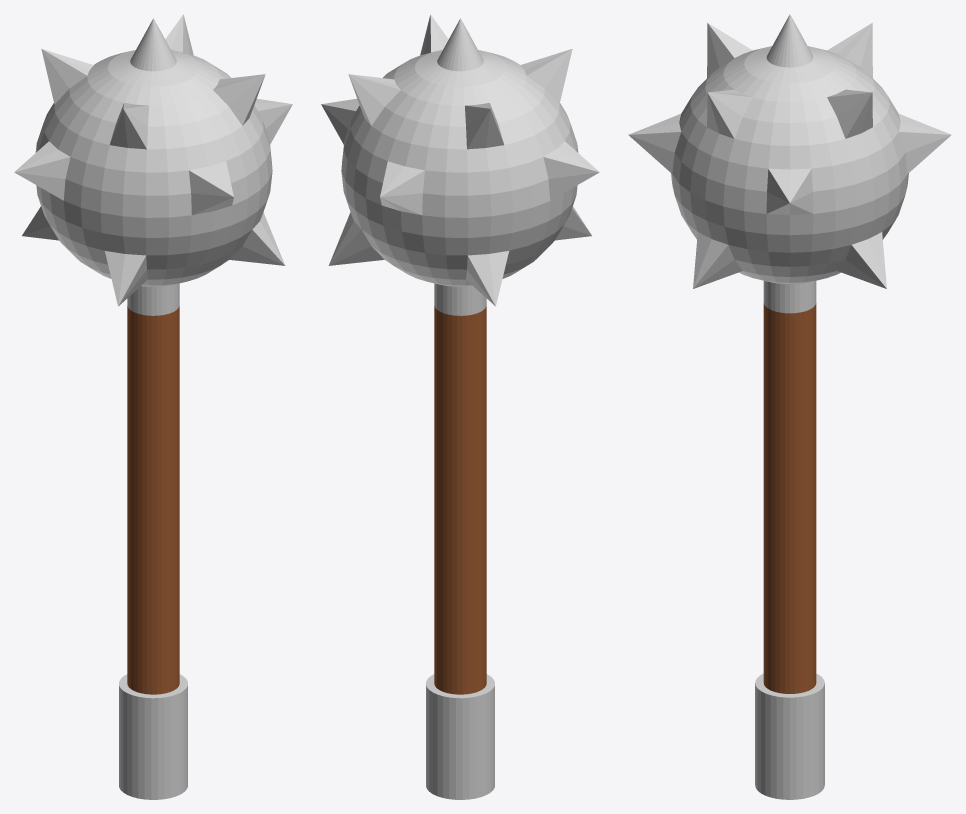
Rendered from SpikyMace.fbx.
3 renders of one model, left to right at view 1: azimuth 30°, elevation 25°; view 2: azimuth 150°, elevation 25°; view 3: azimuth 270°, elevation 25°, orthographic.
Visible parts, largest first — view 1: Sphere, Cylinder, Cylinder.001; view 2: Sphere, Cylinder, Cylinder.001; view 3: Sphere, Cylinder, Cylinder.001.
Boxes of the visible parts, x1,y1,x2,y2 form: Sphere: (14,14,292,306); Cylinder: (127,283,179,694); Cylinder.001: (119,674,187,799); Sphere: (321,14,599,306); Cylinder: (434,283,486,694); Cylinder.001: (426,674,494,799); Sphere: (628,14,951,288); Cylinder: (763,281,816,693); Cylinder.001: (755,673,824,799).
Size of the model in its own units: 67.26 by 67.26 by 177.
